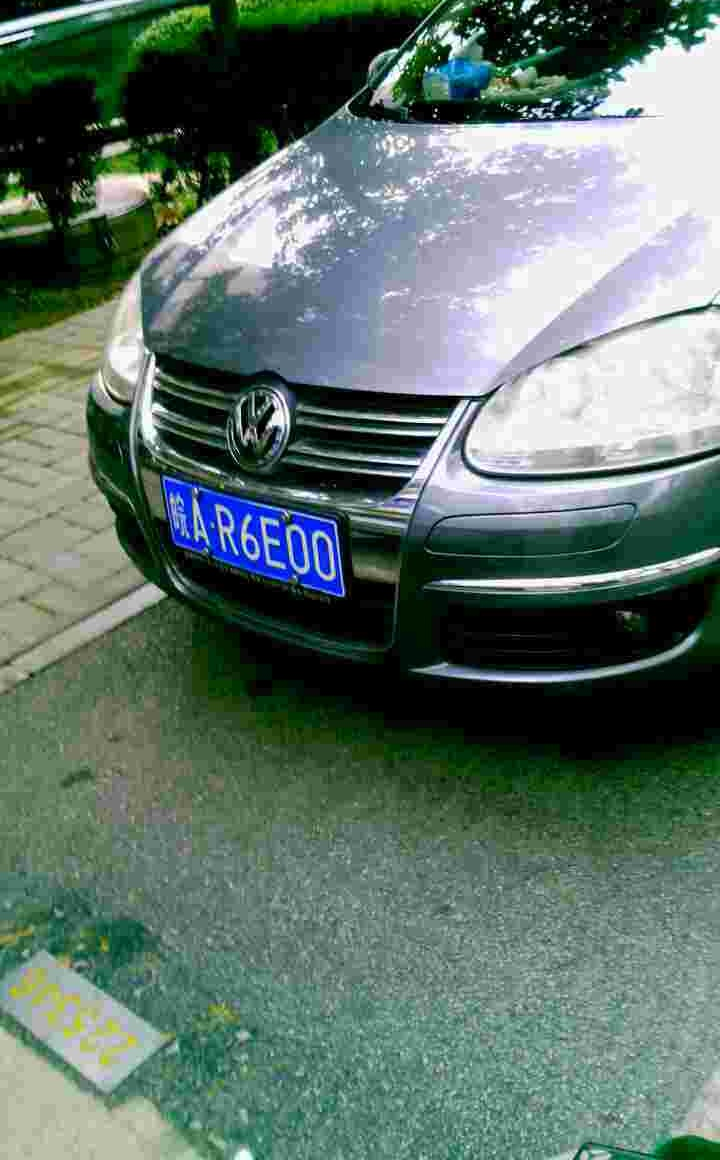license_plate: (162, 469, 346, 598)
